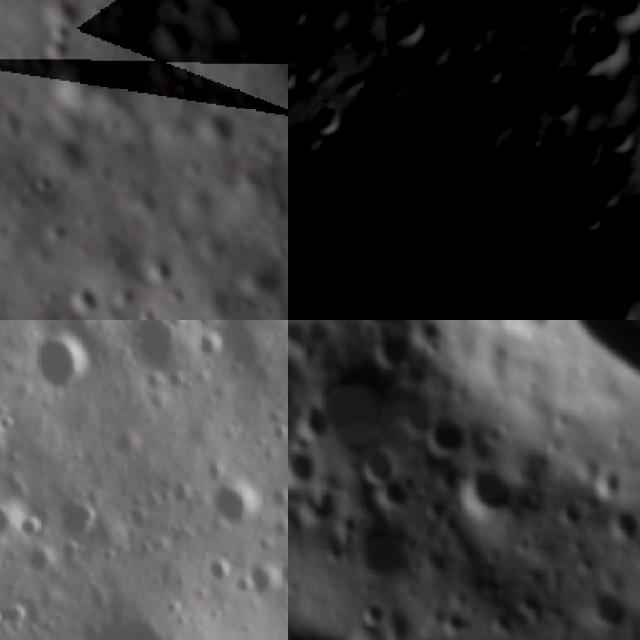crater: (363, 320, 640, 567), (340, 506, 419, 604), (451, 462, 525, 534), (568, 20, 640, 83), (378, 0, 441, 63), (384, 378, 444, 442), (417, 406, 476, 471), (36, 330, 96, 384), (204, 472, 259, 526), (577, 594, 640, 640), (356, 438, 405, 489), (288, 442, 325, 494), (597, 120, 640, 162), (587, 0, 640, 34), (350, 594, 392, 633), (293, 48, 333, 88), (309, 100, 347, 140), (538, 85, 578, 121), (19, 510, 53, 548), (564, 6, 601, 40), (574, 205, 608, 238), (202, 554, 236, 584), (591, 180, 623, 211), (196, 329, 227, 358), (561, 130, 589, 156), (346, 68, 372, 92), (376, 0, 397, 17), (288, 62, 297, 99), (0, 604, 10, 632)
